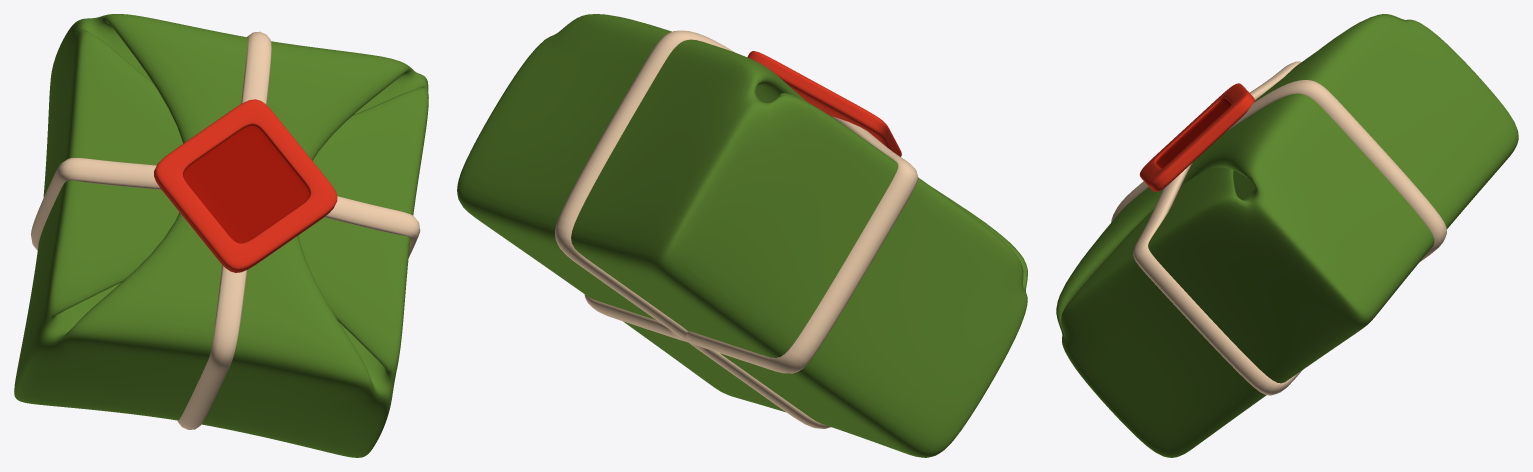
Rendered from BanhChung.glb.
3 renders of one model, left to right at view 1: azimuth 30°, elevation 25°; view 2: azimuth 150°, elevation 25°; view 3: azimuth 270°, elevation 25°, orthographic. The views are drawn at different scales.
Visible parts, largest first — view 1: Cube, Plane.005, Cube.001; view 2: Cube, Cube.001, Plane.005; view 3: Cube, Cube.001, Plane.005.
Boxes of the visible parts, x1,y1,x2,y2 form: Cube: (14,14,428,457); Plane.005: (154,99,337,272); Cube.001: (31,31,420,429); Cube: (457,14,1027,457); Cube.001: (555,30,918,428); Plane.005: (747,51,901,156); Cube: (1056,14,1518,457); Cube.001: (1111,61,1446,395); Plane.005: (1139,83,1254,191).
Bounding box in the file's own units: 6.52 × 5.66 × 6.23.
